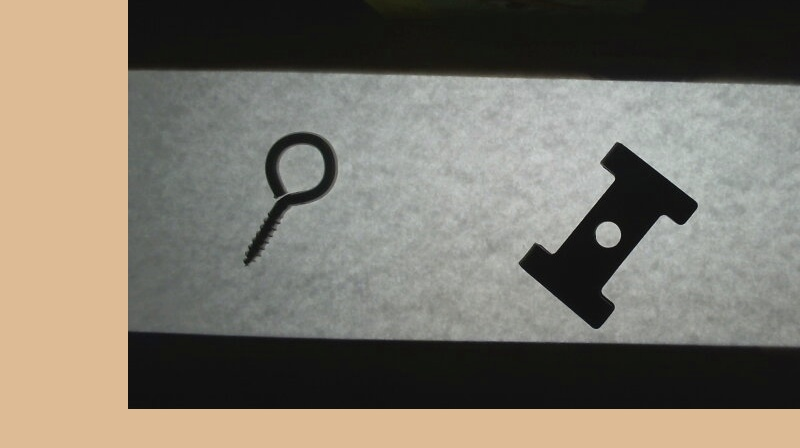O001: (237, 129, 342, 269)
O002: (511, 138, 698, 330)
